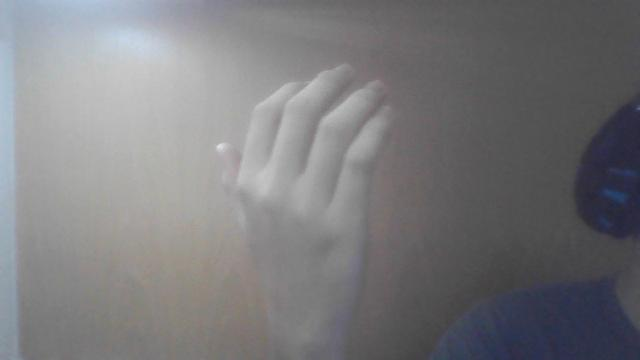backword: (213, 61, 394, 357)
